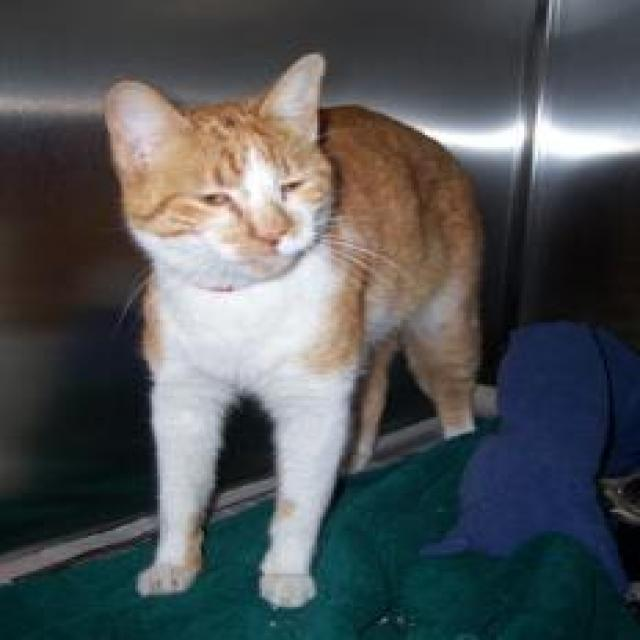Cats: (99, 50, 491, 607)
